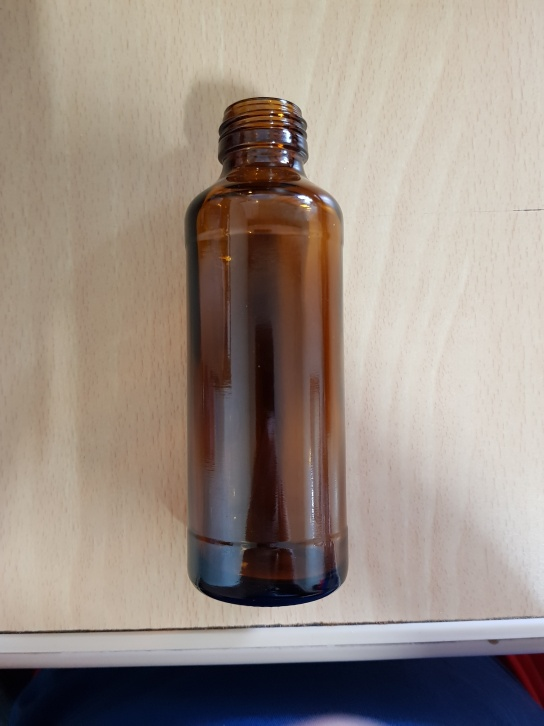Glass: (181, 94, 352, 611)
